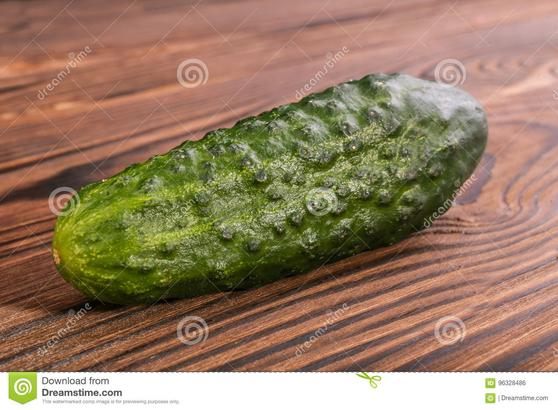cucumber: (53, 66, 489, 304)
